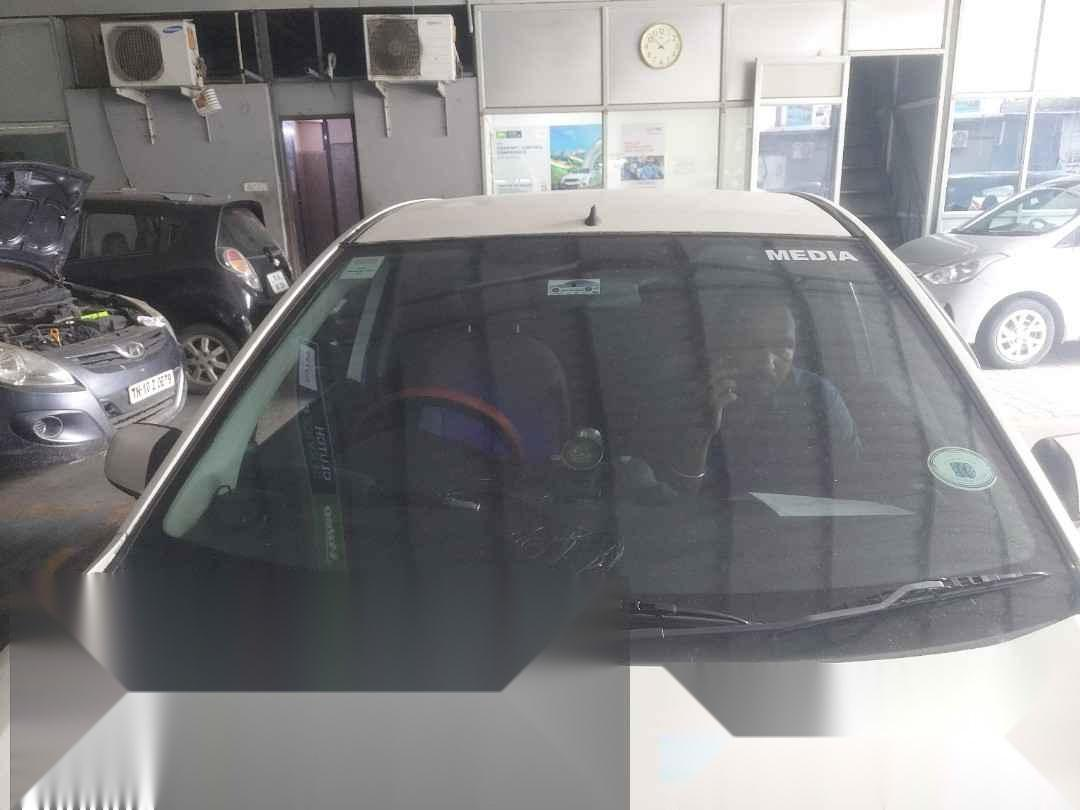FastTag: (533, 269, 618, 308)
not a FastTag: (926, 437, 1001, 501), (764, 246, 864, 273), (341, 250, 391, 298)
